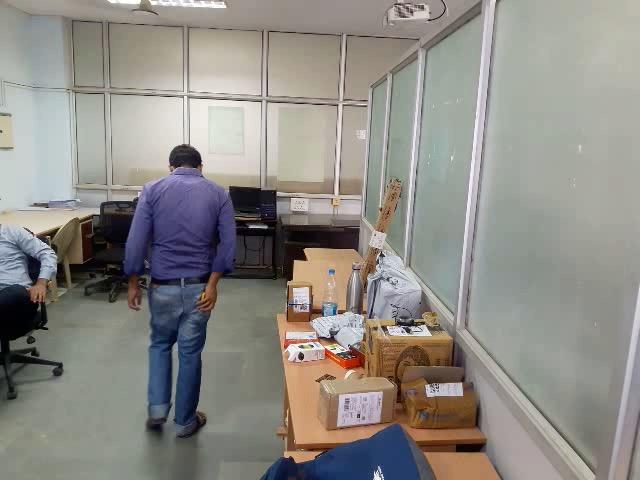shoplifting: (183, 262, 227, 333)
